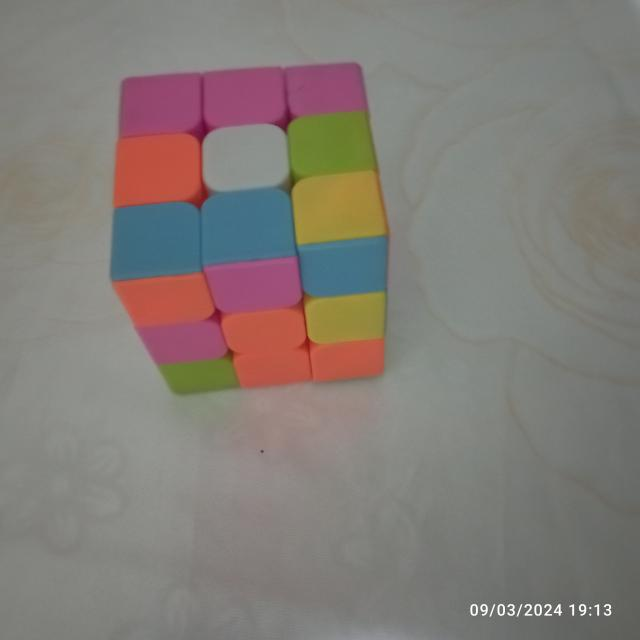Rub: (102, 57, 392, 397)
